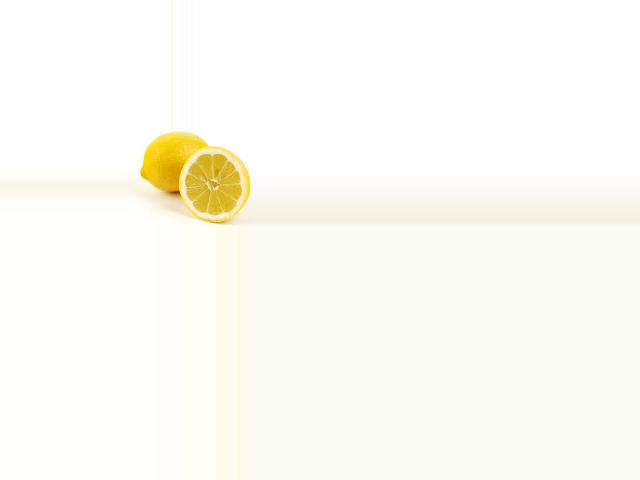lemon: (137, 132, 211, 199)
